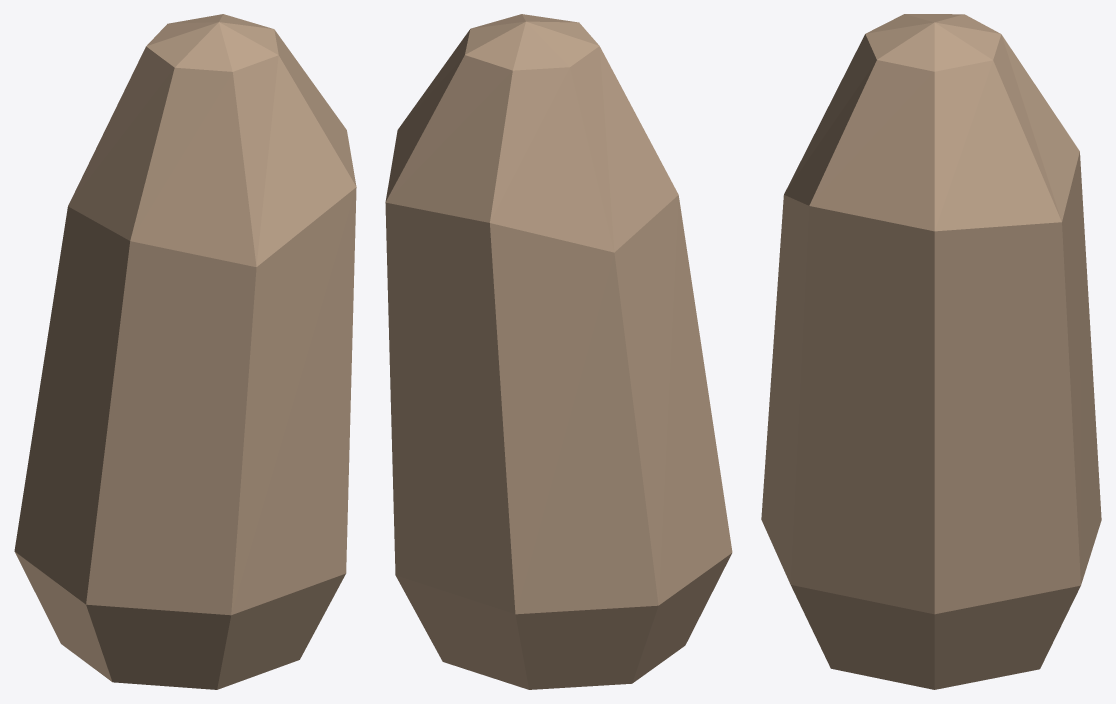
3 renders of one model, left to right at view 1: azimuth 30°, elevation 25°; view 2: azimuth 150°, elevation 25°; view 3: azimuth 270°, elevation 25°, orthographic. The views are drawn at different scales.
Parts seen in each view (by area): view 1: R06; view 2: R06; view 3: R06.
Part boxes in pixels (<box>): R06: <box>14,14,356,689</box>; R06: <box>385,14,732,689</box>; R06: <box>761,14,1101,689</box>.
Bounding box in the file's own units: 0.7935 × 1.55 × 0.7592.
